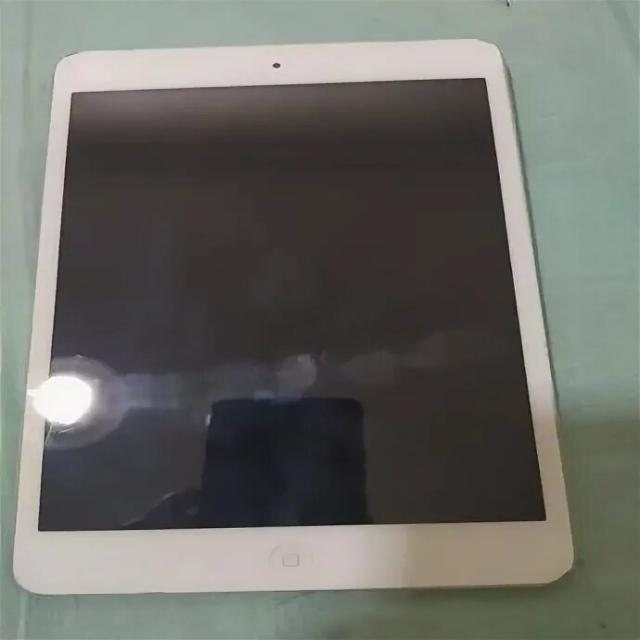phone good: (11, 36, 591, 629)
